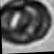correct: (0, 0, 52, 49)
